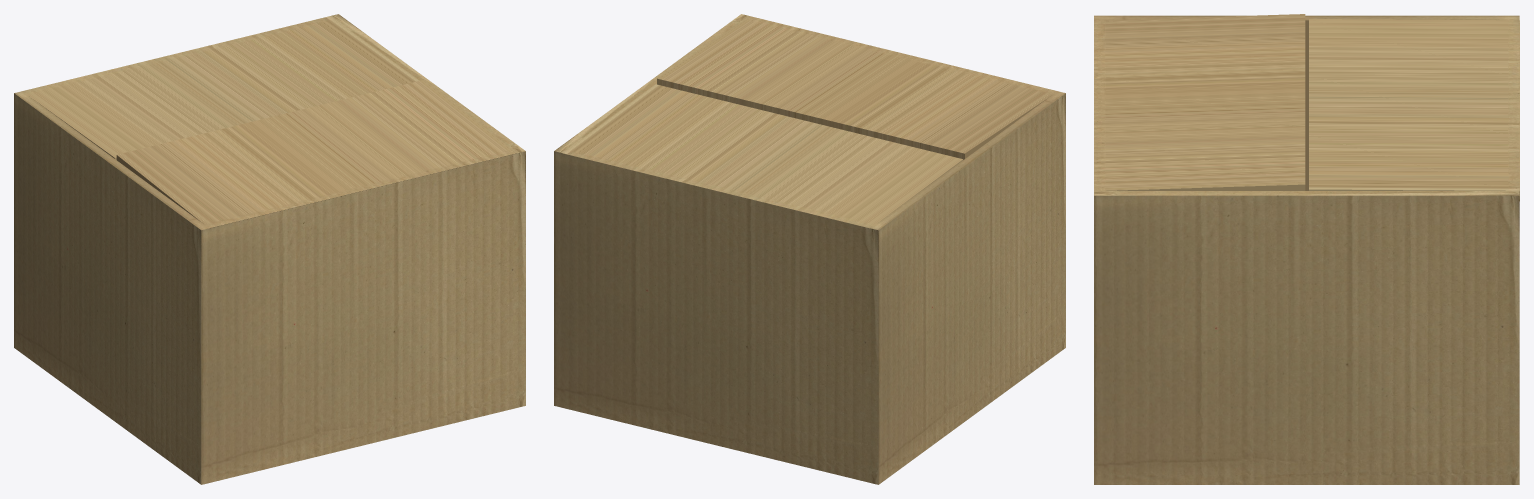
File: Box_Closed.FBX
The picture shows the model from 3 angles, left to right: view 1: azimuth 30°, elevation 25°; view 2: azimuth 150°, elevation 25°; view 3: azimuth 270°, elevation 25°; orthographic projection. The views are drawn at different scales.
Visible parts, largest first — view 1: Box001; view 2: Box001; view 3: Box001.
Part boxes in pixels (box(x1,y1,x2,y2)): Box001: box(14, 14, 525, 484); Box001: box(554, 14, 1065, 484); Box001: box(1094, 14, 1519, 484).
Bounding box in the file's own units: 100 × 76.62 × 100.
Materials: 1 (1 with a texture image).
